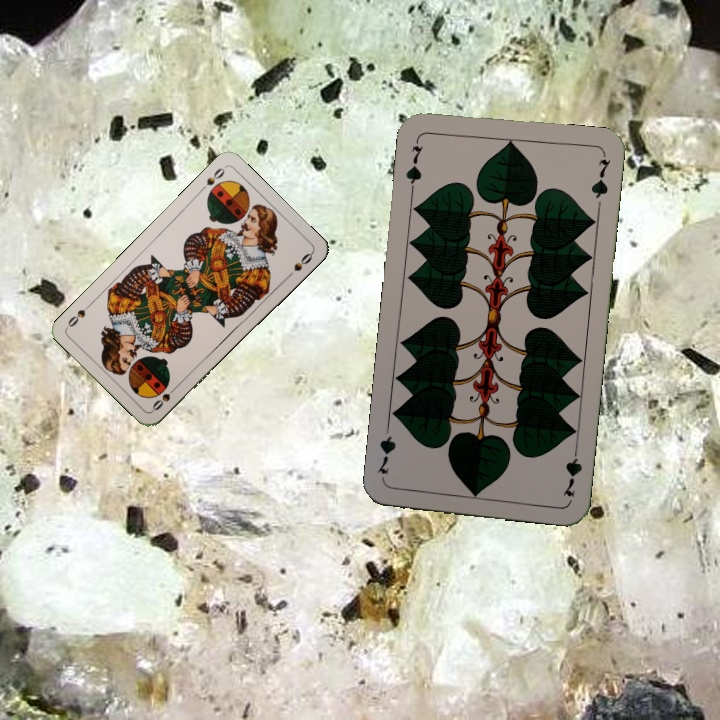G7: (558, 441, 585, 499), (402, 134, 426, 193)
SO: (148, 381, 181, 413), (195, 163, 227, 195)
